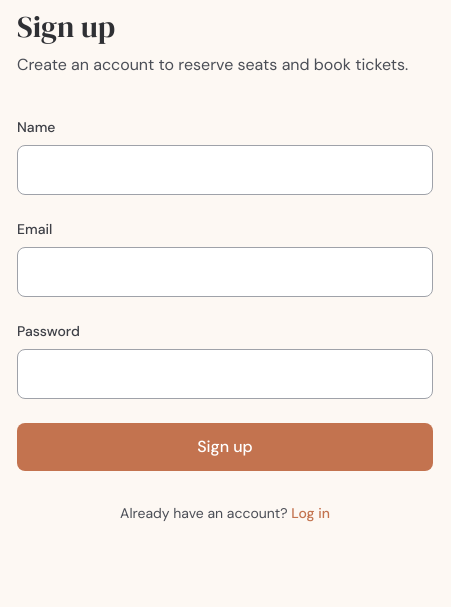
Scenario: RegisterPage › shows generic error when register rejects with non-Error
Type "Bob" into the field labelled "Name". click: (225, 170)
box: [17, 145, 433, 195]
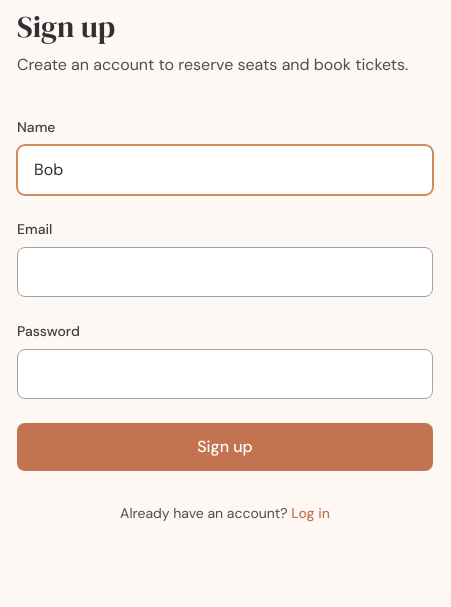
Type "bob@example.com" into the field labelled "Email". click: (225, 272)
box: [17, 247, 433, 297]
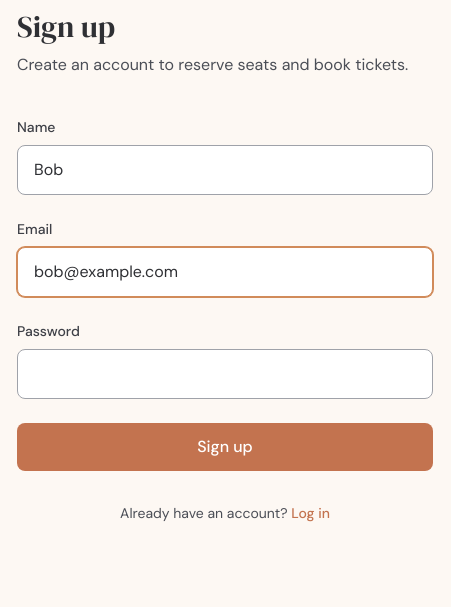
Type "pass" into the password field labelled "Password". click: (225, 374)
box: [17, 349, 433, 399]
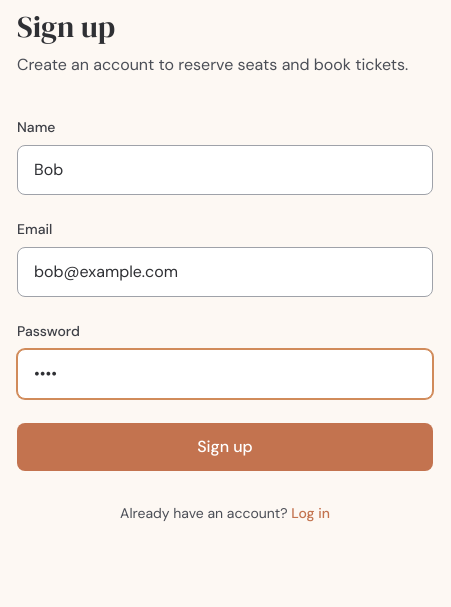
Click the button "Sign up". click: (225, 447)
box: [17, 423, 433, 471]
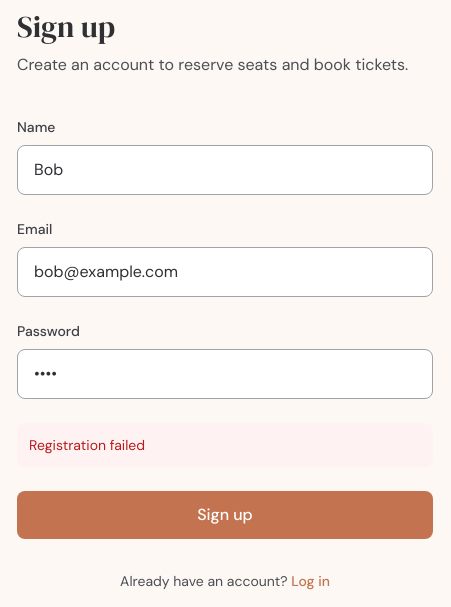
Now the text "Registration failed" is shown, box [17, 423, 433, 467]
